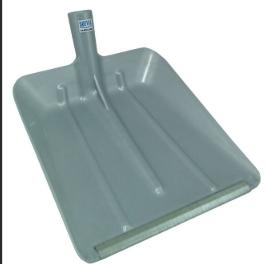PELLE: (8, 5, 267, 264)
